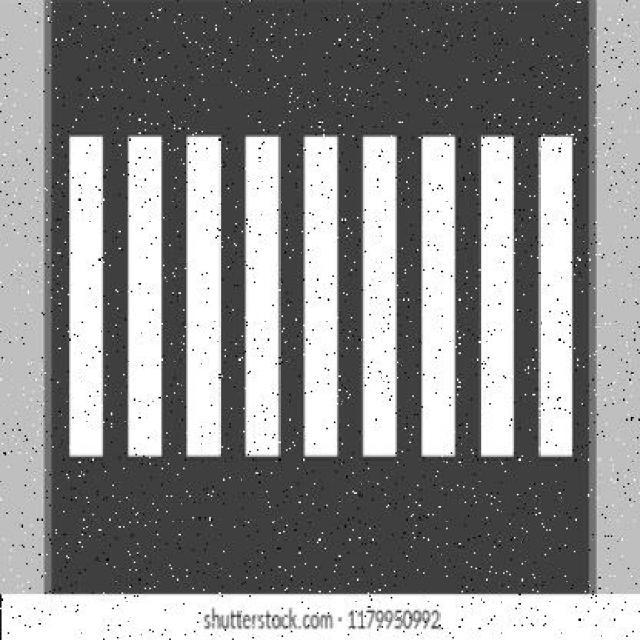crosswalk: (51, 113, 639, 510)
